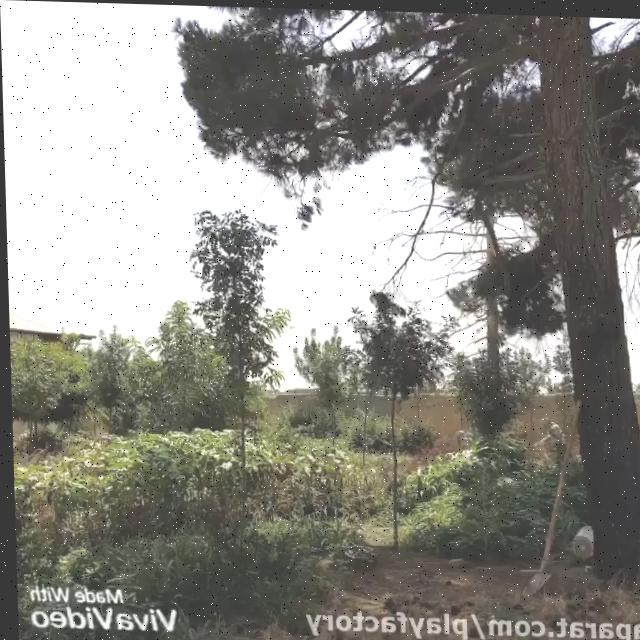drone: (285, 320, 297, 329)
